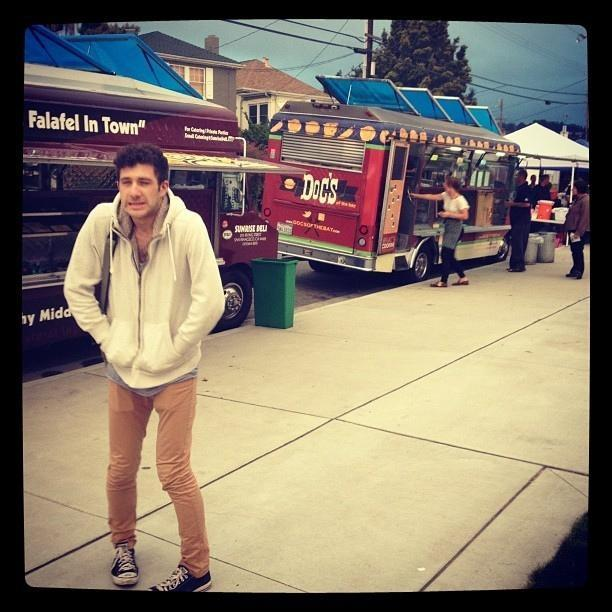bus: (257, 90, 523, 272)
truck: (28, 61, 294, 368), (258, 78, 522, 284)
